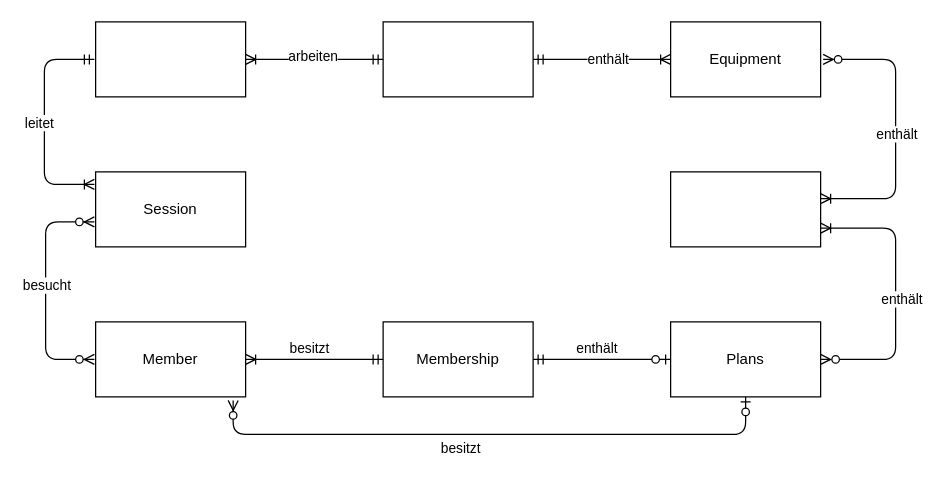
Image size: 944x478. Some labels were removed from this diagram. Each missing label, with the centre of its shape:
Gym: point 457,59
Trainer: point 170,59
Übungen: point 745,209
